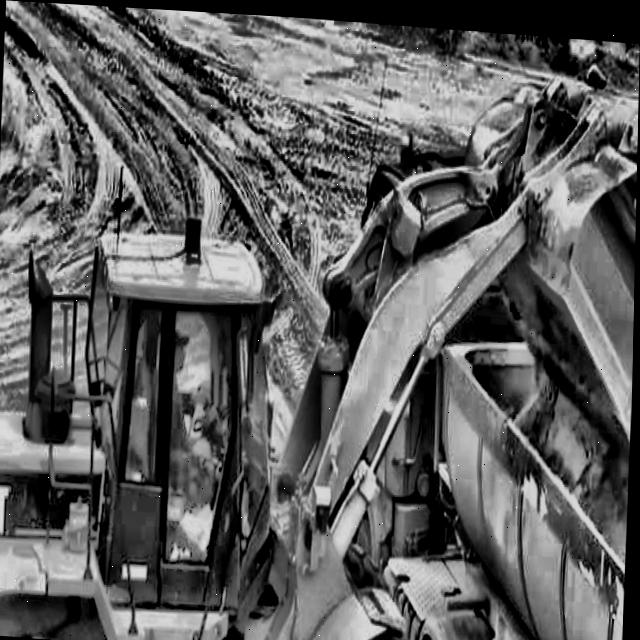buldozerpayloadergrader: (0, 45, 639, 640)
